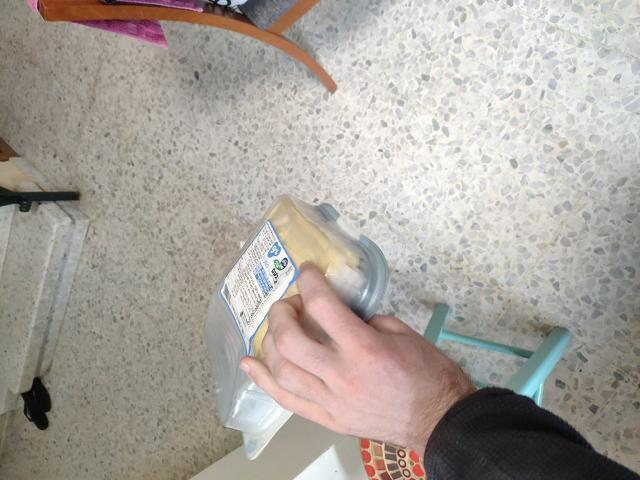cheese: (226, 169, 343, 444)
